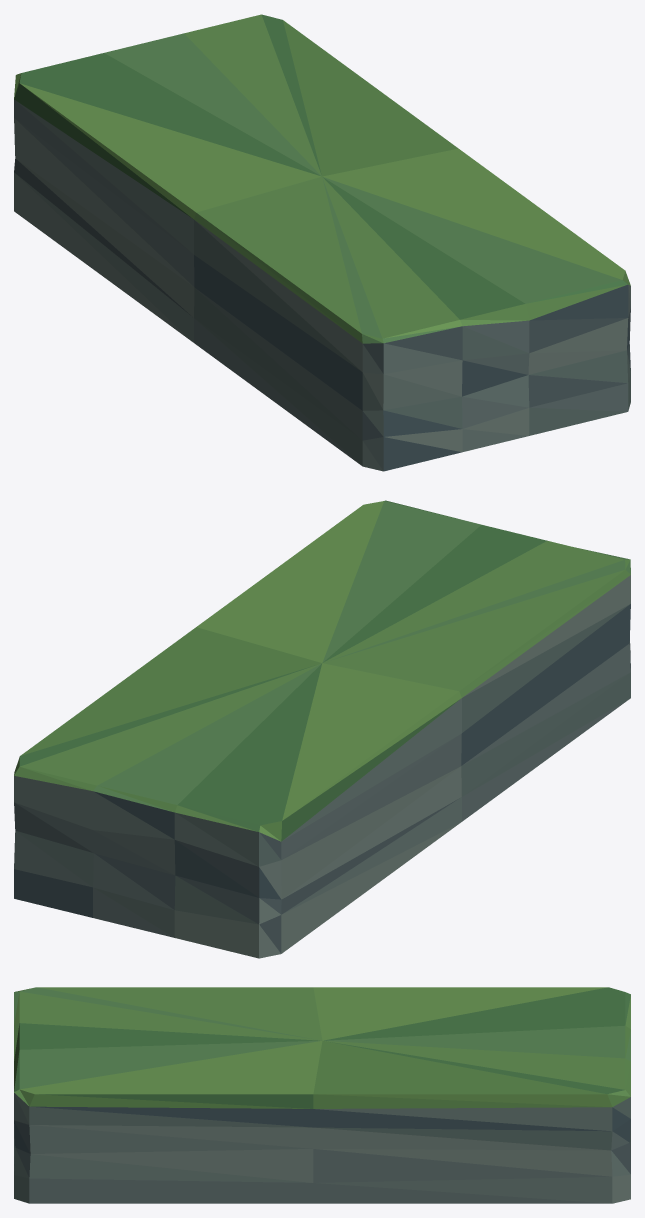
File: west-cliffs.glb
3 renders of one model, top to bottom at view 1: azimuth 30°, elevation 25°; view 2: azimuth 150°, elevation 25°; view 3: azimuth 270°, elevation 25°, orthographic. The views are drawn at different scales.
Visible parts, largest first — view 1: west-cliffs; view 2: west-cliffs; view 3: west-cliffs.
Boxes of the visible parts, bbox=[...] form: west-cliffs: bbox=[14, 14, 630, 471]; west-cliffs: bbox=[14, 500, 630, 958]; west-cliffs: bbox=[14, 987, 630, 1203].
Bounding box in the file's own units: 28 × 13 × 67.
Materials: 1 (1 with a texture image).
